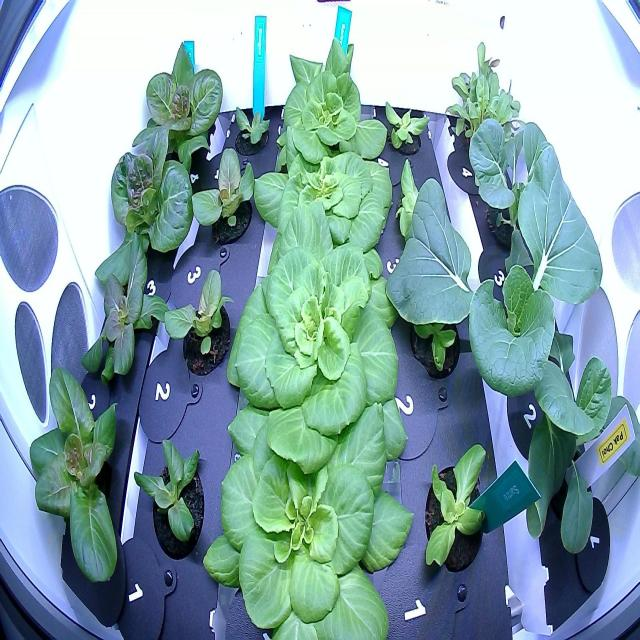young: (216, 191, 414, 482), (200, 390, 417, 639), (24, 348, 145, 592), (248, 111, 406, 262), (83, 108, 198, 315), (269, 28, 395, 174), (74, 220, 175, 402), (124, 29, 228, 182), (414, 437, 497, 588), (128, 428, 211, 571), (156, 260, 238, 385), (186, 140, 262, 258), (386, 156, 452, 249), (404, 288, 466, 382), (382, 82, 432, 165), (225, 92, 278, 164)
